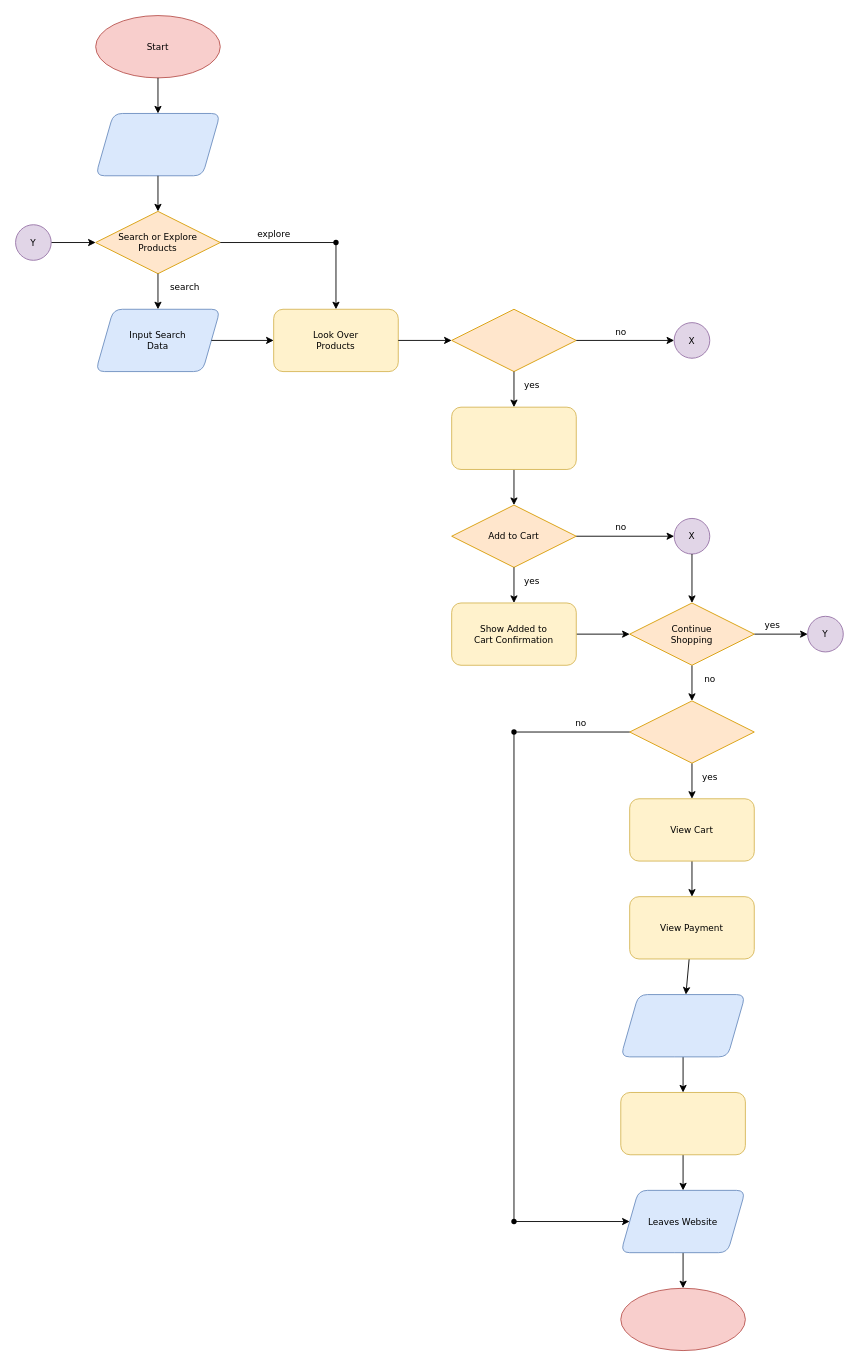
The diagram is 859 pixels wide and 1366 high, and some of its shapes have lost their labels. The shapes that lost their labels are listed below. From the top down, each one's centre as x and y in pixels, then its label:
At point (157, 144): "Enters Website".
At point (513, 340): "View Product".
At point (513, 437): "Open Product Webpage".
At point (691, 731): "Checkout".
At point (682, 1025): "Input Payment Information".
At point (682, 1123): "Order Confirmation with Email Confirmation".
At point (682, 1319): "End".
